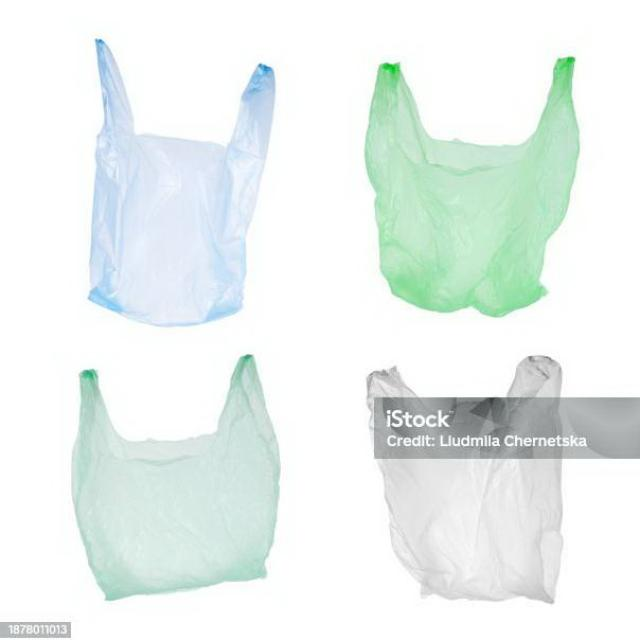Single-layer Plastic: (360, 348, 572, 613), (365, 58, 579, 316), (89, 40, 275, 326), (72, 355, 280, 599)
